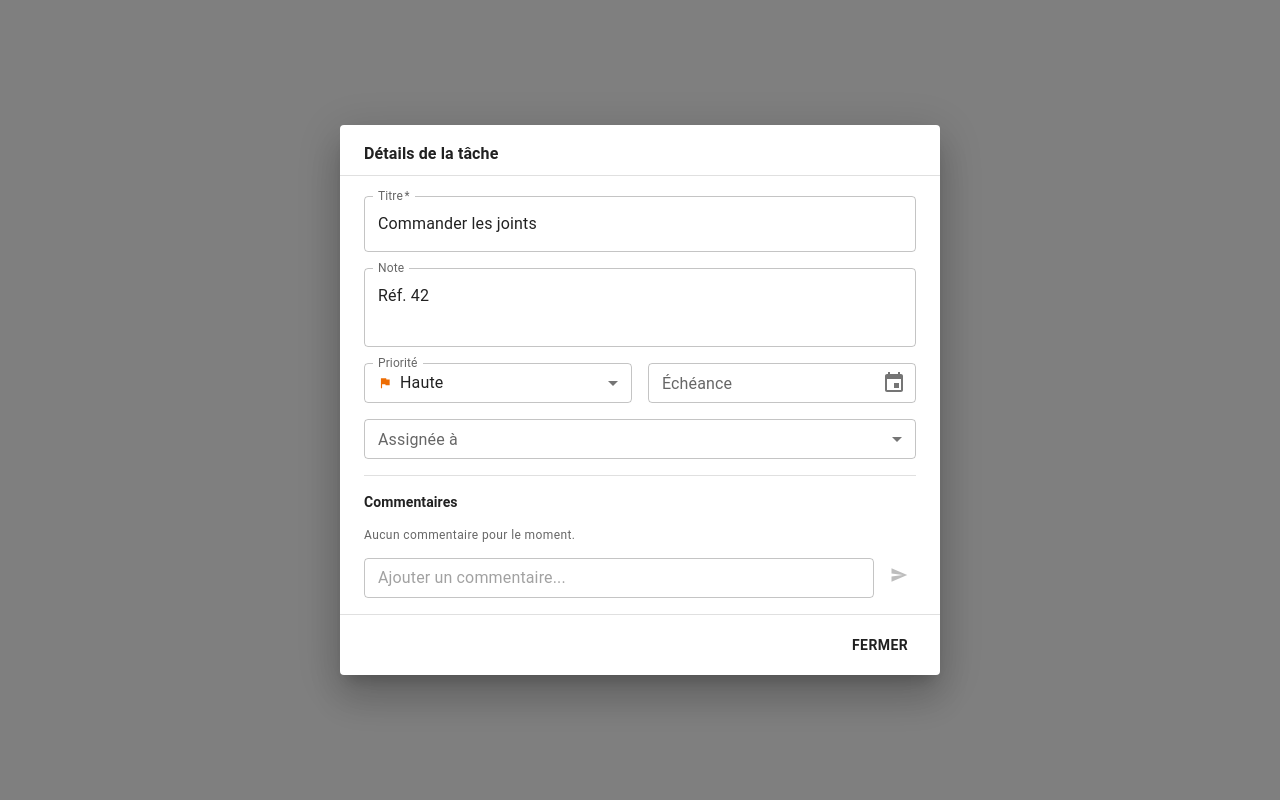
Test case: TaskDetailsDialog › limite les options d'assignation aux owner + membres de la liste
What coordinates should you click on to do the following:
click the dropdown named "Assignée à"
I would click on:
 (640, 439)
Its box is [364, 419, 916, 459].
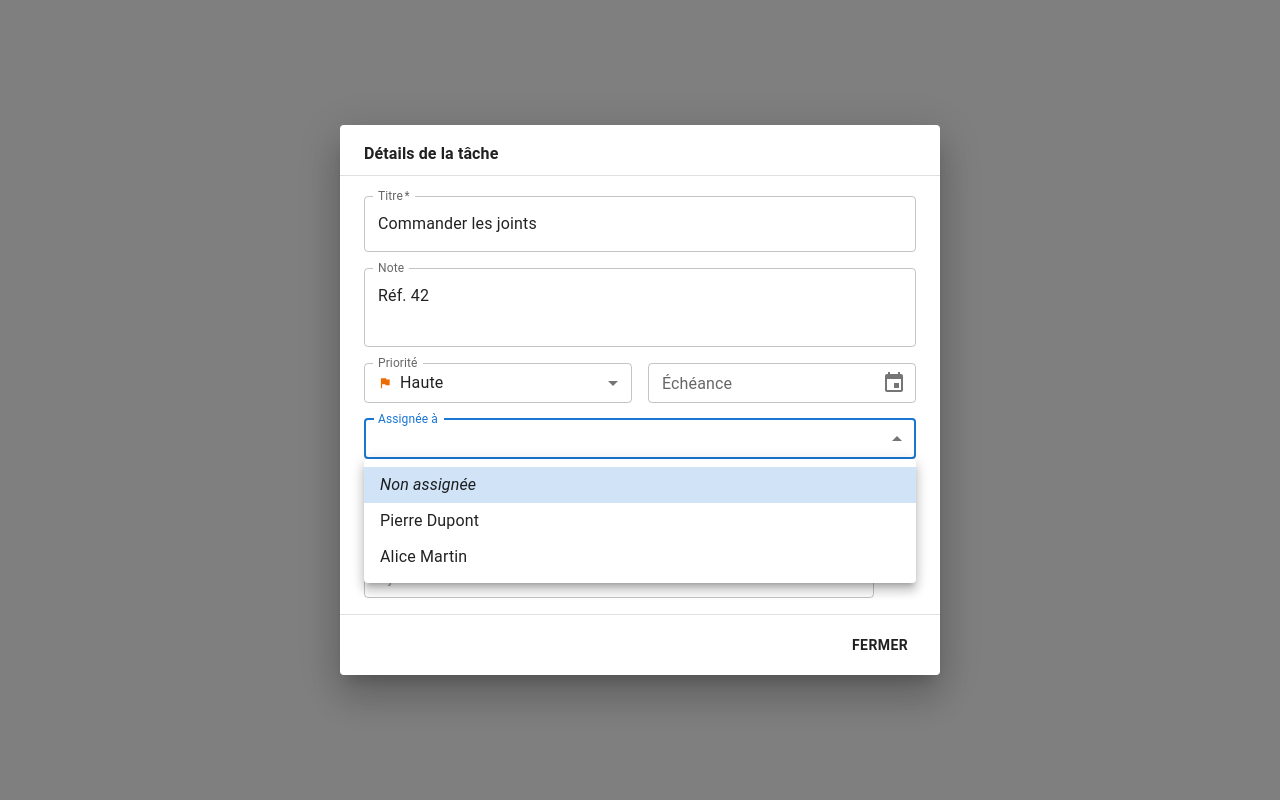
Expected: the option "Pierre Dupont" is shown, [380, 511, 479, 530]
Expected: the option "Alice Martin" is shown, [380, 547, 467, 566]
Expected: the text "Non assignée" is shown, [380, 473, 476, 497]
